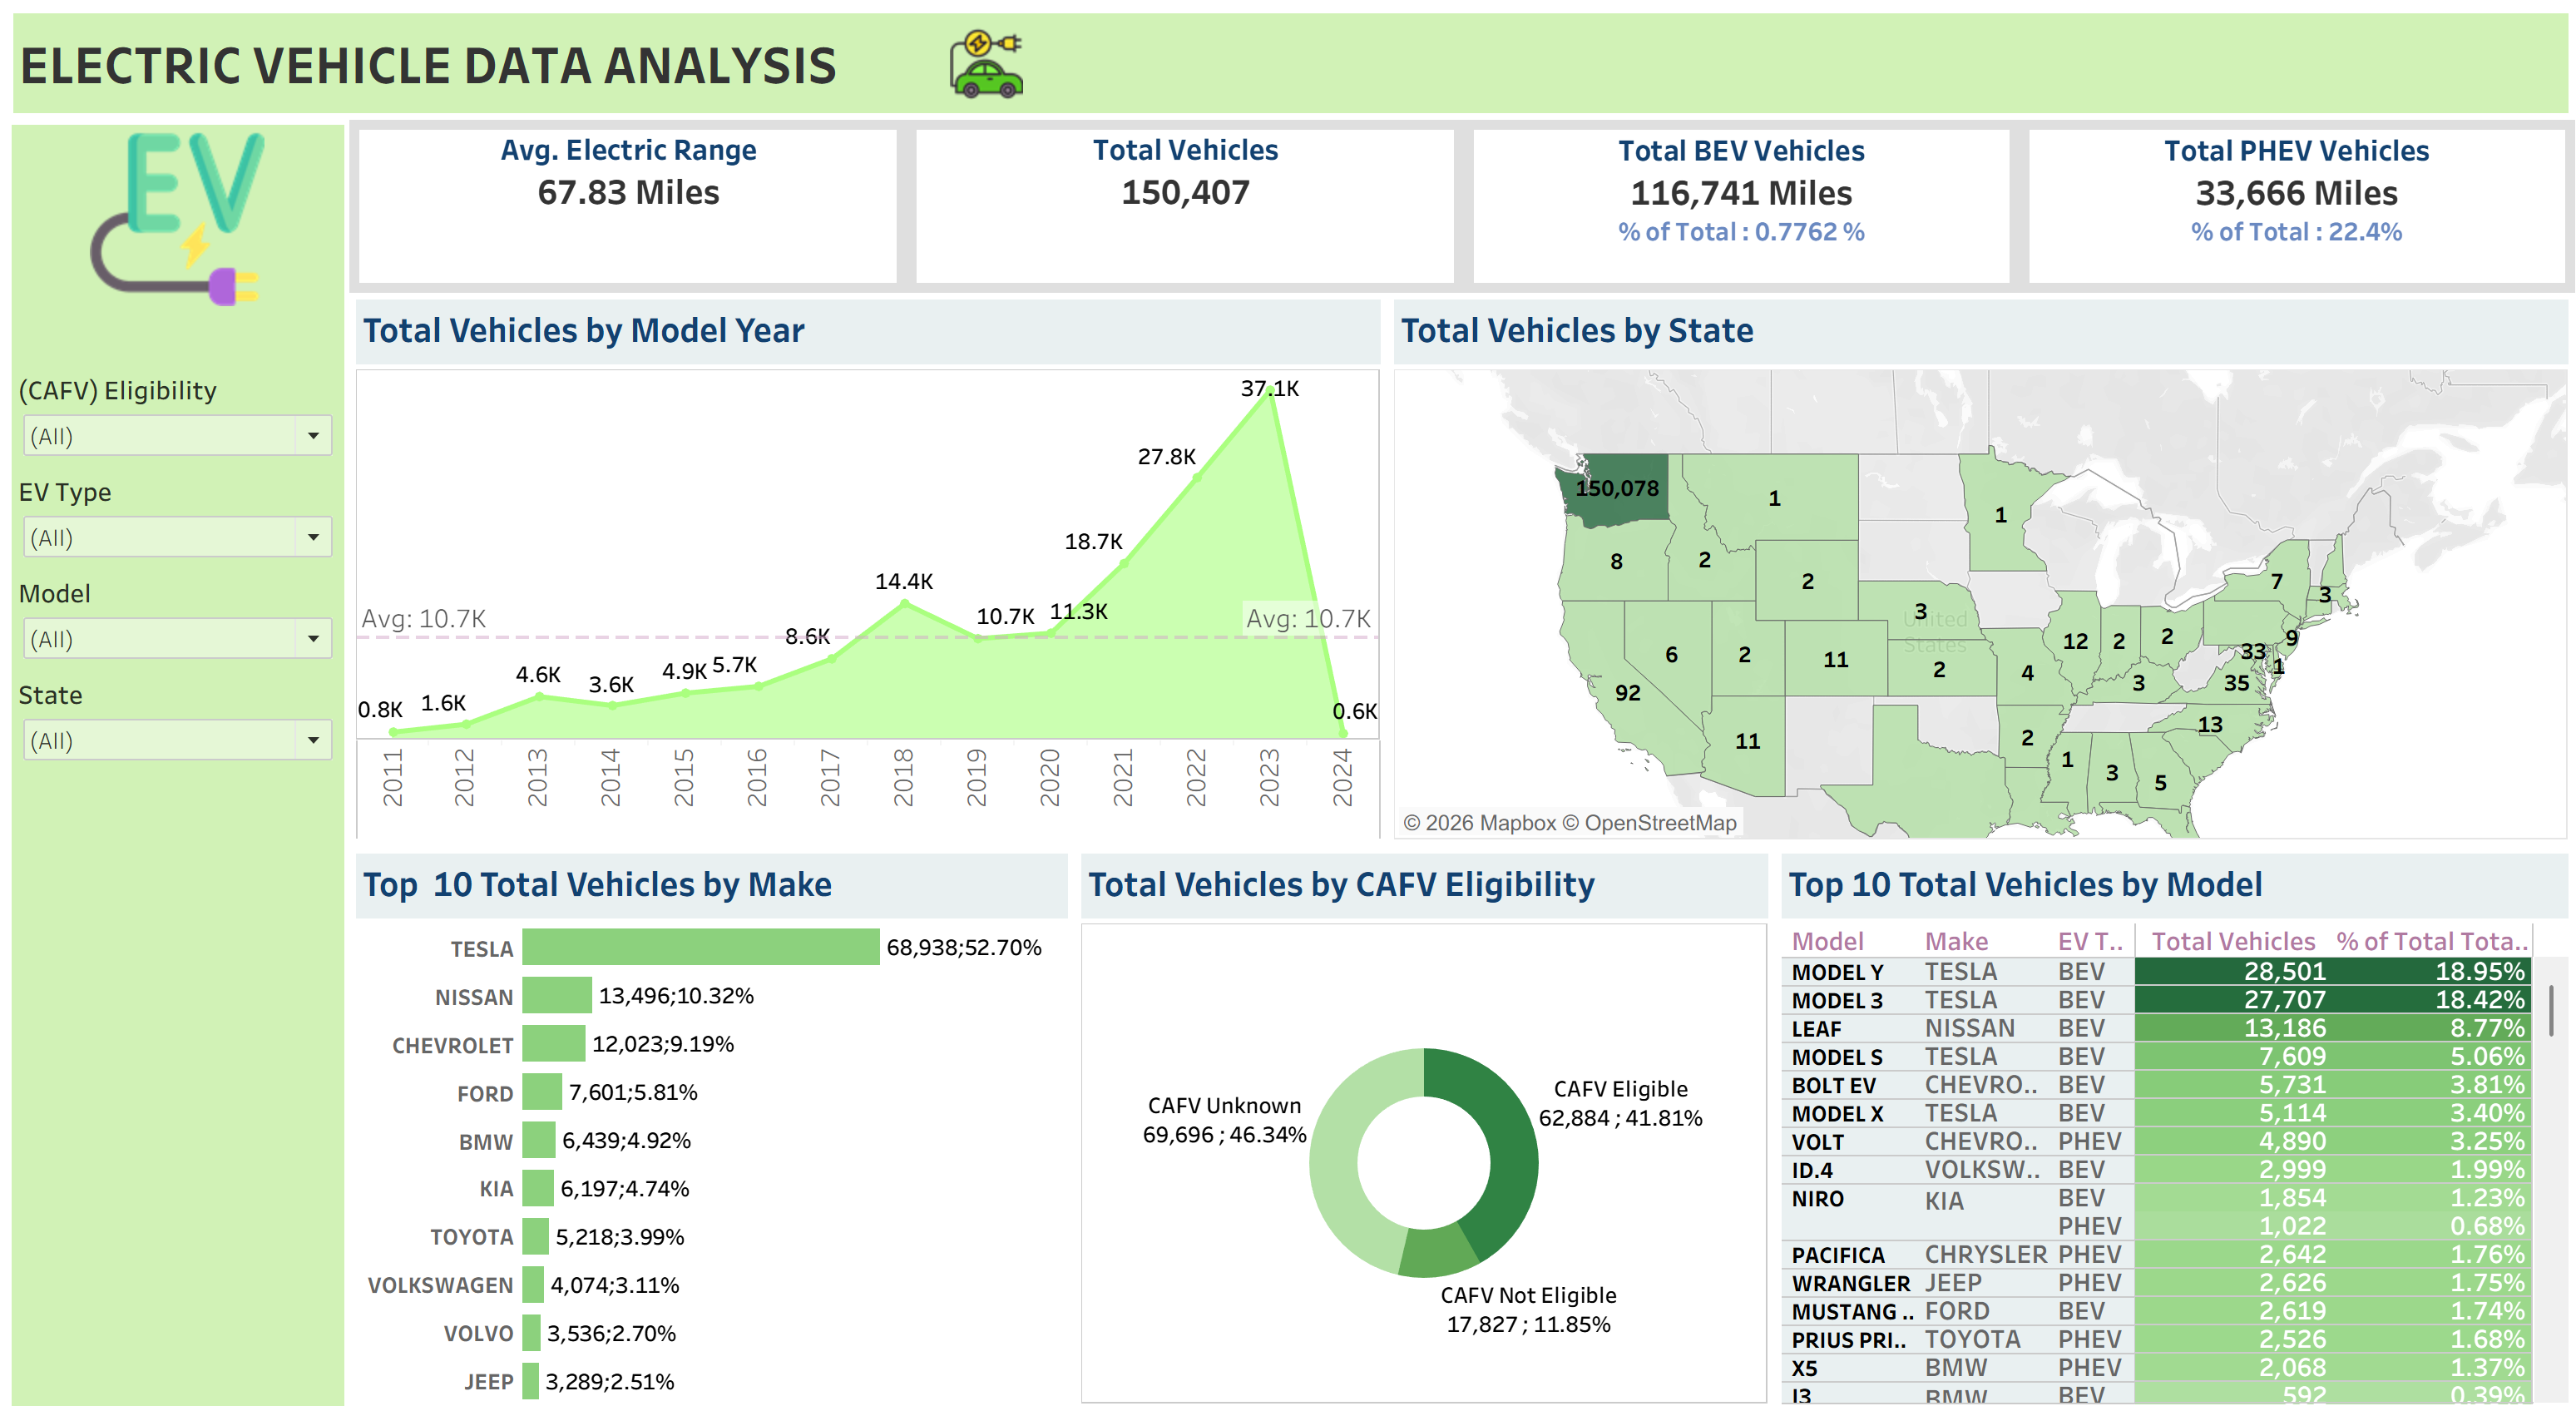

What the dashboard file says about the page in this screenshot:
{"tool":"tableau","page":{"name":"ELECTRIC VEHICLE DATA ANALYSIS","canvas":[1000,1000],"units":"permille","ordinal":0},"visuals":[{"type":"title","box":[5.8,11.1,988.5,78.9]},{"type":"image","param":"C:/Users/Roshan/Downloads/electric-car.png","box":[351.8,23.6,61.3,51.2]},{"type":"worksheet","title":"Avg Electric Range","mark":"Automatic","box":[137.7,90,214.1,120.5]},{"type":"worksheet","title":"Total Vehicles","mark":"Automatic","box":[351.8,90,214.1,120.5]},{"type":"worksheet","title":"Total BEV Vehicles","mark":"Automatic","box":[566,90,214.1,120.5]},{"type":"worksheet","title":"Total PHEV Vehicles","mark":"Automatic","box":[780.1,90,214.1,120.5]},{"type":"image","param":"C:/Users/Roshan/Downloads/ev_6944173.png","box":[7.9,94.2,127.6,121.6]},{"type":"worksheet","title":"Total Vehicles by Model Year ","mark":"Area","rows":["Calculation_1382368202031104","Calculation_1382368202031104"],"cols":["Model Year"],"box":[137.7,210.5,449.9,385.7]},{"type":"worksheet","title":"Total Vehicles by State","mark":"Multipolygon","box":[587.6,210.5,406.7,385.7]},{"type":"blank","box":[7.9,215.8,127.6,44.3]},{"type":"filter","title":"Total Vehicles by CAFV Eligibility","param":"[federated.1so38ac1qpglkz12krhco18nwuwr].[none:Clean Alternative Fuel Vehicle (C","box":[7.9,260.1,127.6,84.5]},{"type":"filter","title":"Total Vehicles by CAFV Eligibility","param":"[federated.1so38ac1qpglkz12krhco18nwuwr].[none:Electric Vehicle Type:nk]","box":[7.9,344.6,127.6,84.5]},{"type":"filter","title":"Total Vehicles by CAFV Eligibility","param":"[federated.1so38ac1qpglkz12krhco18nwuwr].[none:Model:nk]","box":[7.9,429.1,127.6,84.5]},{"type":"filter","title":"Total Vehicles by CAFV Eligibility","param":"[federated.1so38ac1qpglkz12krhco18nwuwr].[none:State:nk]","box":[7.9,513.5,127.6,84.5]},{"type":"worksheet","title":"Top 10 Total Vehicles by Make","mark":"Automatic","rows":["Make"],"cols":["Calculation_1382368202031104"],"box":[137.7,596.1,279,392.8]},{"type":"worksheet","title":"Total Vehicles by CAFV Eligibility","mark":"Pie","rows":["Calculation_0145417674145793","Calculation_0145417674145793"],"box":[416.7,596.1,269.7,392.8]},{"type":"worksheet","title":"Top 10 Total Vehicles by Model","mark":"Square","rows":["Model","Make","Electric Vehicle Type"],"box":[686.3,596.1,307.9,392.8]},{"type":"blank","box":[7.9,598,127.6,96.7]},{"type":"blank","box":[7.9,694.7,127.6,96.7]},{"type":"blank","box":[7.9,791.4,127.6,96.7]},{"type":"blank","box":[7.9,888.1,127.6,96.7]}]}

Visuals, with their boxes on the dashboard's canvas, which has no fixed pixel size, in thousandths of its width and height (x1, y1, x2, y2). These are canvas units, not pixel positions in the 2576x1411 screenshot, which may show the page scaled, cropped or inside an application window:
title: left=6, top=11, right=994, bottom=90
image: left=352, top=24, right=413, bottom=75
"Avg Electric Range" worksheet: left=138, top=90, right=352, bottom=210
"Total Vehicles" worksheet: left=352, top=90, right=566, bottom=210
"Total BEV Vehicles" worksheet: left=566, top=90, right=780, bottom=210
"Total PHEV Vehicles" worksheet: left=780, top=90, right=994, bottom=210
image: left=8, top=94, right=136, bottom=216
"Total Vehicles by Model Year " worksheet (Area marks): left=138, top=210, right=588, bottom=596
"Total Vehicles by State" worksheet (Multipolygon marks): left=588, top=210, right=994, bottom=596
blank: left=8, top=216, right=136, bottom=260
"Total Vehicles by CAFV Eligibility" filter: left=8, top=260, right=136, bottom=345
"Total Vehicles by CAFV Eligibility" filter: left=8, top=345, right=136, bottom=429
"Total Vehicles by CAFV Eligibility" filter: left=8, top=429, right=136, bottom=514
"Total Vehicles by CAFV Eligibility" filter: left=8, top=514, right=136, bottom=598
"Top 10 Total Vehicles by Make" worksheet: left=138, top=596, right=417, bottom=989
"Total Vehicles by CAFV Eligibility" worksheet (Pie marks): left=417, top=596, right=686, bottom=989
"Top 10 Total Vehicles by Model" worksheet (Square marks): left=686, top=596, right=994, bottom=989
blank: left=8, top=598, right=136, bottom=695
blank: left=8, top=695, right=136, bottom=791
blank: left=8, top=791, right=136, bottom=888
blank: left=8, top=888, right=136, bottom=985
